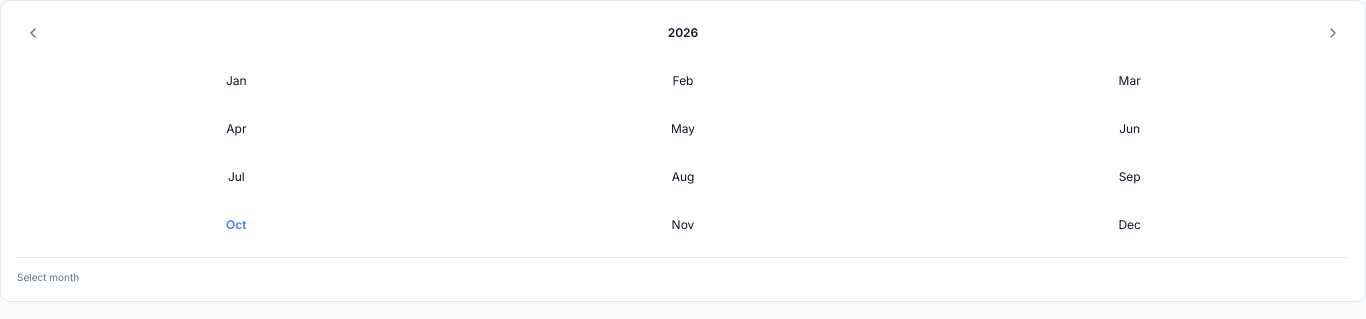
Test: MonthPicker › navigation › decrements year on prev click
Expected: the text "2026" is shown, [668, 24, 698, 42]
Step 1. Click the button named "previous year" → (33, 33), box [17, 17, 49, 49]
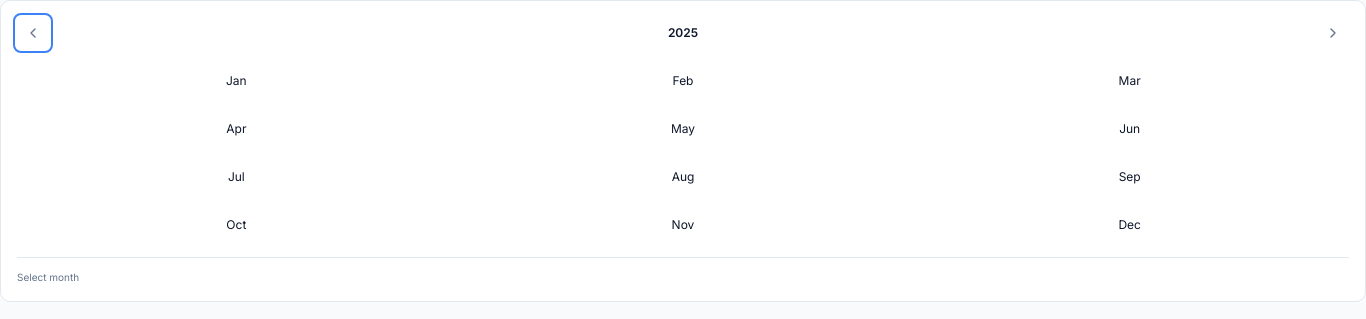
Result: the text "2025" is shown at [668, 24, 698, 42]
